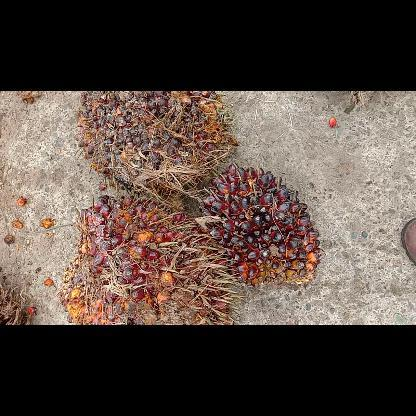Kurang masak: (77, 90, 239, 198), (194, 162, 324, 286)
TBS masak: (61, 196, 238, 324)
